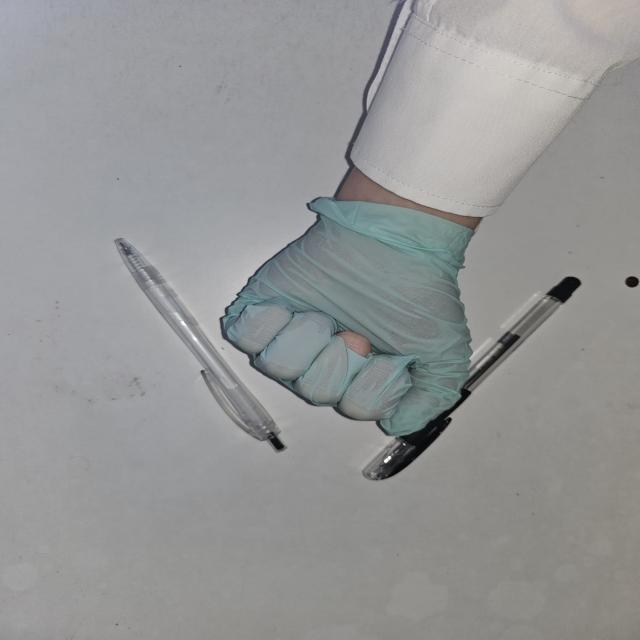gloves_damaged: (216, 192, 480, 438)
